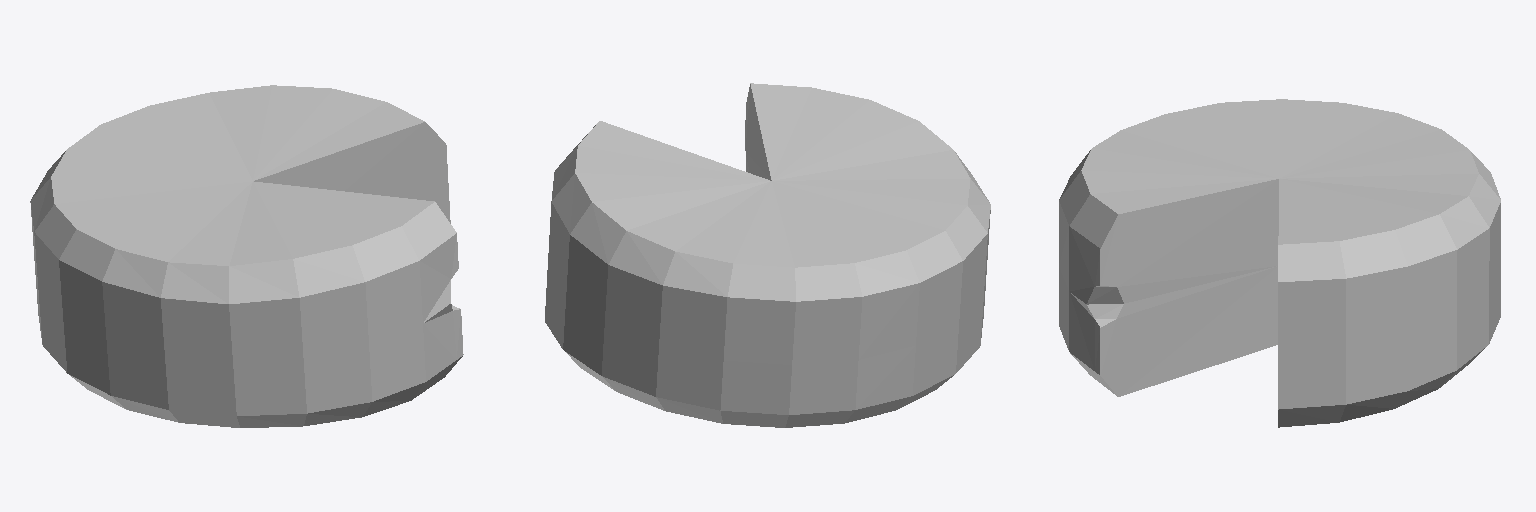
Rendered from Cheese_Banquet_geo.obj.
3 views of the same model, side by side, from view 1: azimuth 30°, elevation 25°; view 2: azimuth 150°, elevation 25°; view 3: azimuth 270°, elevation 25° (orthographic).
Parts seen in each view (by area): view 1: REDO:Cheese; view 2: REDO:Cheese; view 3: REDO:Cheese.
Boxes of the visible parts, x1=… form: REDO:Cheese: x1=30, y1=85, x2=463, y2=427; REDO:Cheese: x1=545, y1=83, x2=990, y2=427; REDO:Cheese: x1=1059, y1=99, x2=1500, y2=427.
Size of the model in its own units: 6.91 by 3.15 by 6.75.